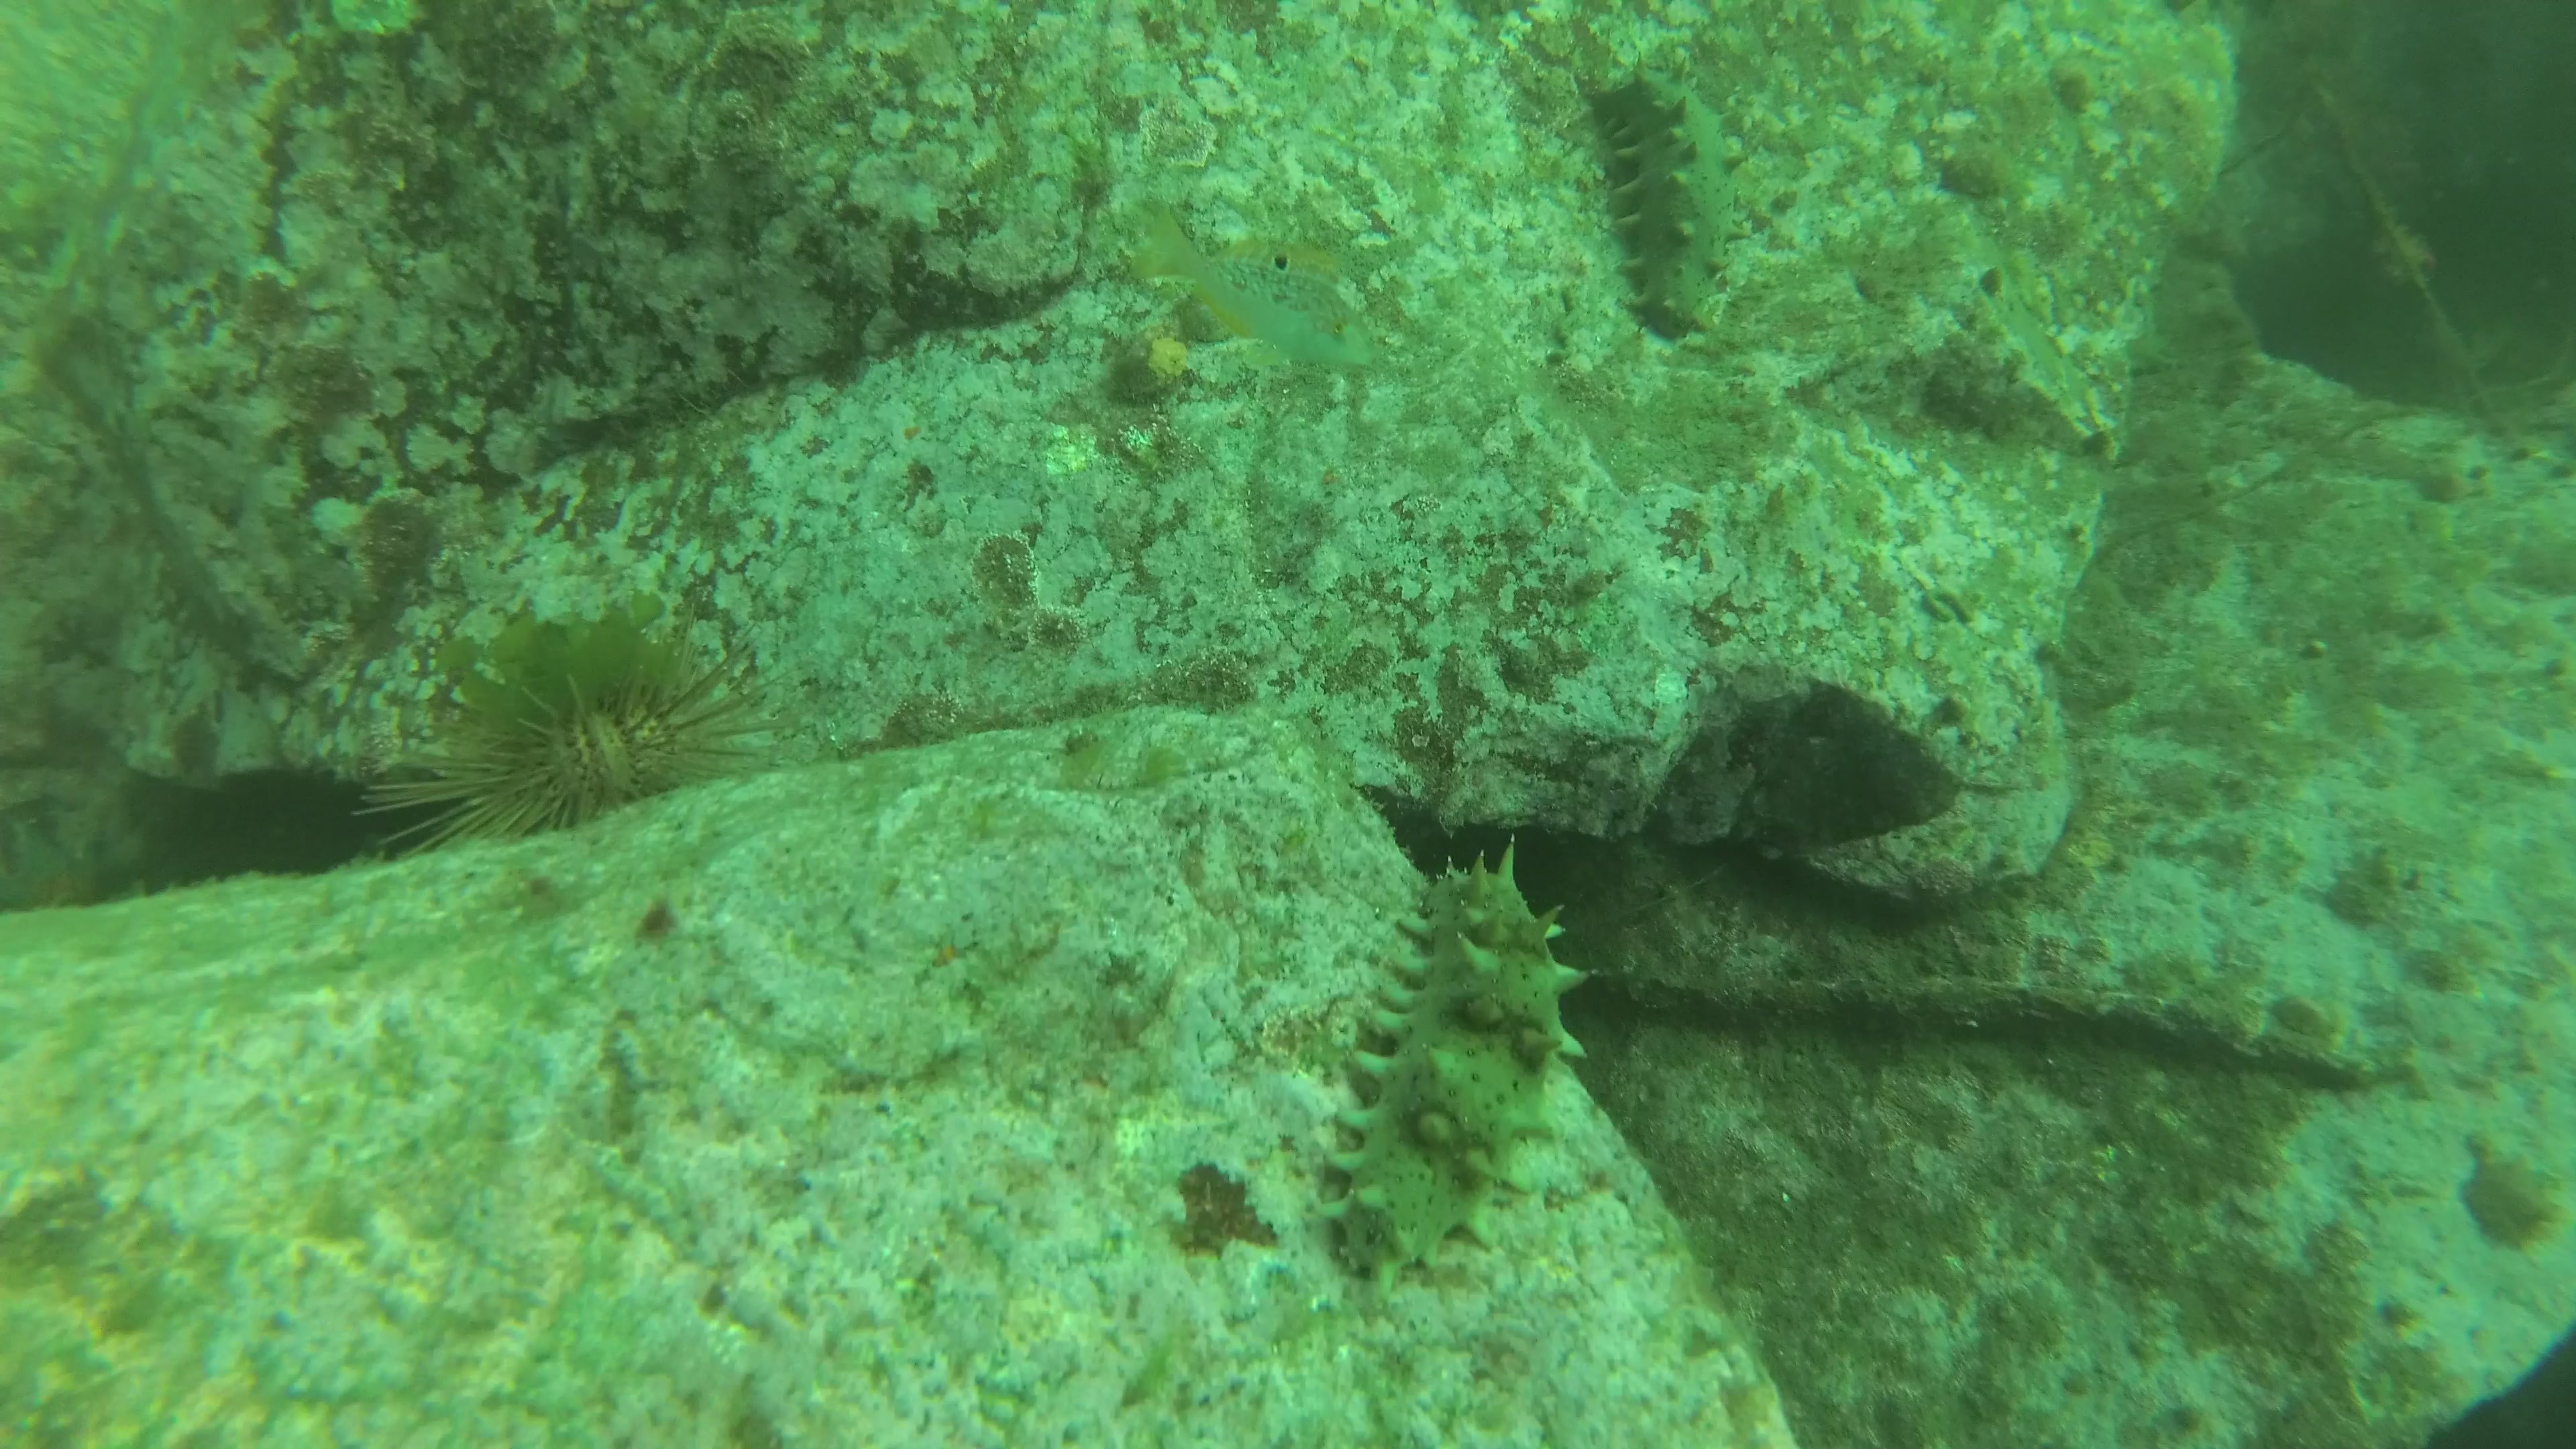echinus: (357, 596, 794, 863)
holothurian: (1318, 853, 1591, 1293), (1591, 67, 1762, 347)
